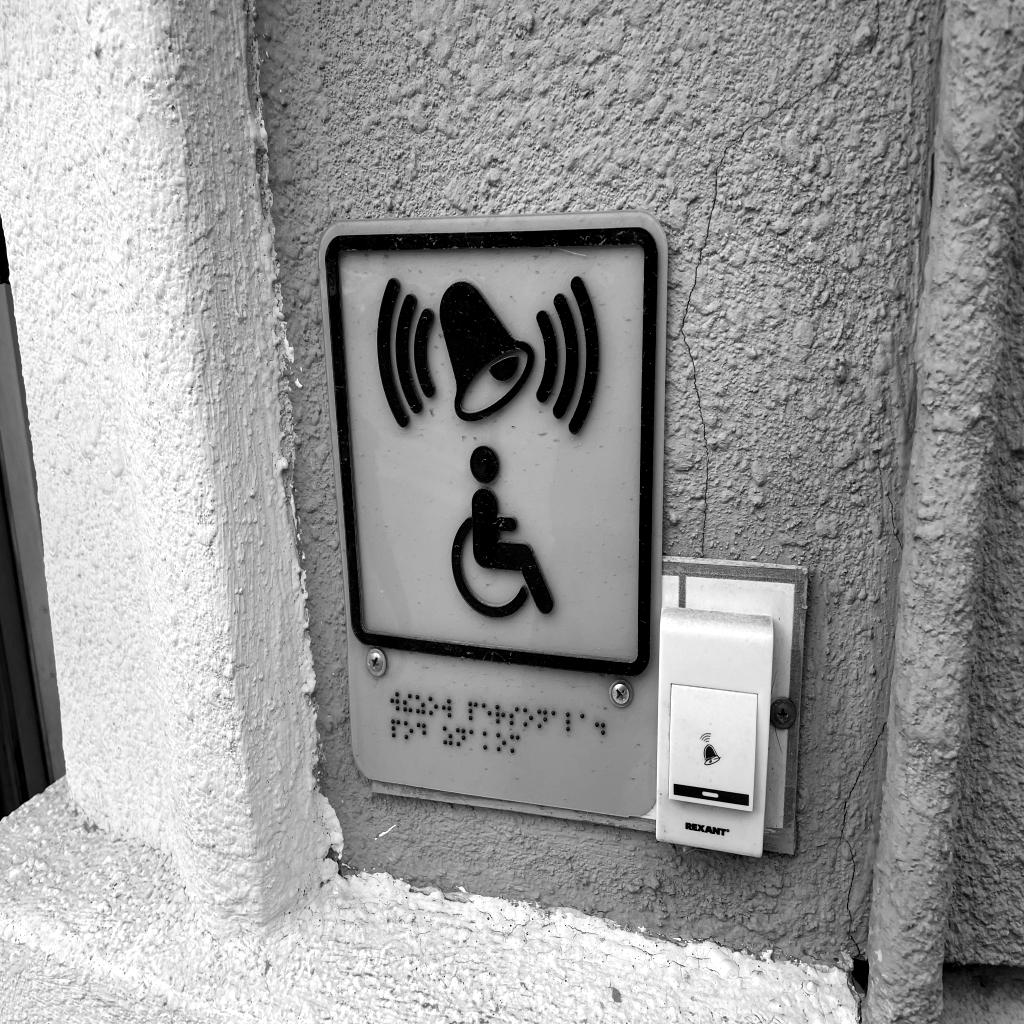_n: (455, 727, 466, 747), (537, 708, 547, 729)
a: (580, 713, 590, 734), (551, 710, 561, 730), (469, 729, 479, 748)
d: (417, 722, 426, 742)
e: (481, 702, 492, 723)
ii: (403, 693, 412, 713)
k: (483, 731, 493, 751)
l: (565, 711, 576, 732)
m: (510, 734, 520, 754)
o: (428, 696, 438, 716), (523, 707, 533, 727), (404, 720, 414, 740), (496, 732, 506, 752)
p: (468, 701, 478, 721), (391, 718, 400, 738)
r: (495, 704, 505, 724)
s: (509, 706, 519, 726)
tochka: (595, 713, 606, 736)
v: (442, 699, 452, 719), (390, 691, 399, 711)
z: (442, 726, 453, 746), (415, 694, 425, 715)
